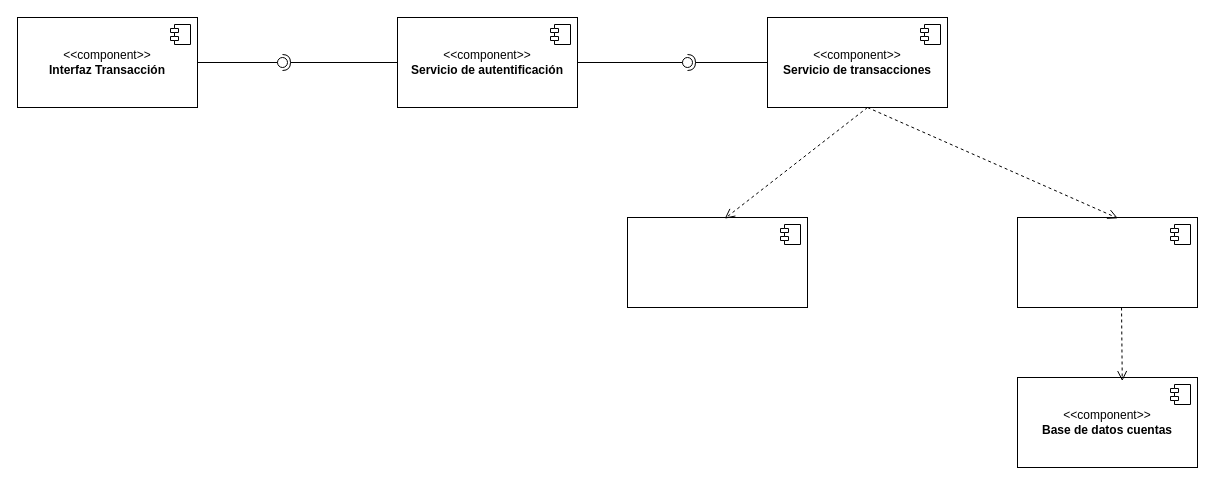
The diagram is 1215 pixels wide and 485 high, and some of its shapes have lost their labels. Here are the shapes that lost their labels. From the top down, the box of each, then its label:
(626, 216, 808, 308): <<component>> Base de datos Transacciones
(1016, 216, 1198, 308): <<component>> Servicio de cuentas
